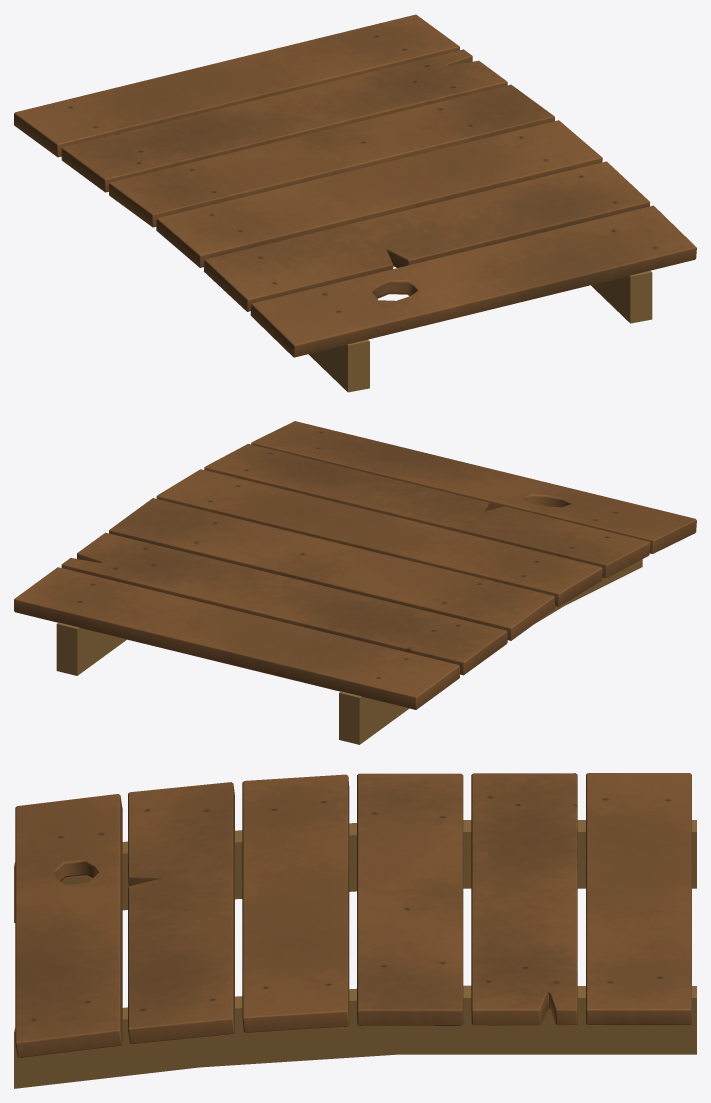
Rendered from bridge half.fbx.
The picture shows the model from 3 angles, top to bottom: view 1: azimuth 30°, elevation 25°; view 2: azimuth 150°, elevation 25°; view 3: azimuth 270°, elevation 25°; orthographic projection. The views are drawn at different scales.
Parts seen in each view (by area): view 1: polySurface406; view 2: polySurface406; view 3: polySurface406.
Boxes of the visible parts, x1,y1,x2,y2 form: polySurface406: (14, 14, 696, 392); polySurface406: (14, 421, 696, 744); polySurface406: (14, 773, 696, 1088).
Bounding box in the file's own units: 3.49 × 0.7325 × 4.25.
1 material, 1 textured.
